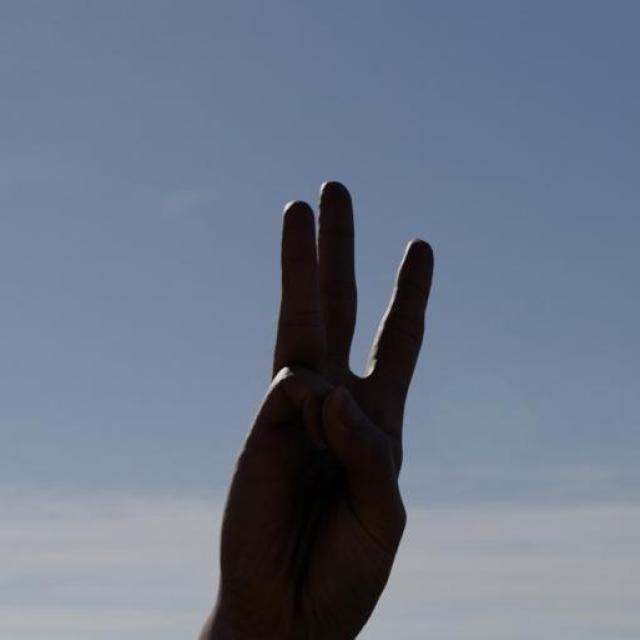W: (209, 170, 452, 640)
